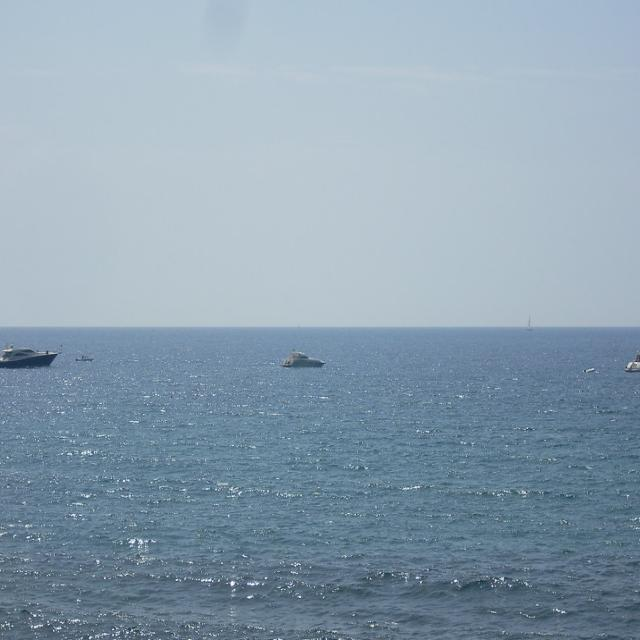houseboat: (0, 336, 59, 369), (279, 347, 329, 370), (624, 344, 640, 376)
